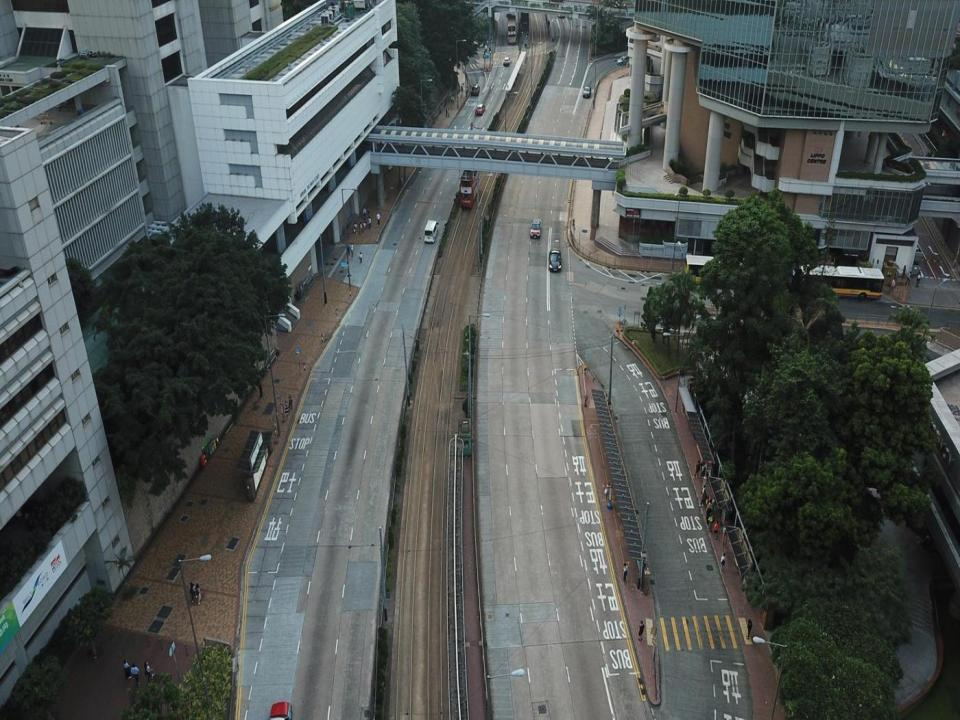bus: (684, 254, 884, 301), (460, 152, 480, 208), (508, 14, 516, 46)
car: (550, 248, 562, 272), (530, 218, 541, 238), (583, 85, 592, 98), (475, 103, 485, 114), (471, 84, 479, 96), (558, 8, 565, 18), (503, 57, 510, 66), (505, 8, 511, 16)
van: (423, 219, 438, 242), (618, 53, 631, 66)
